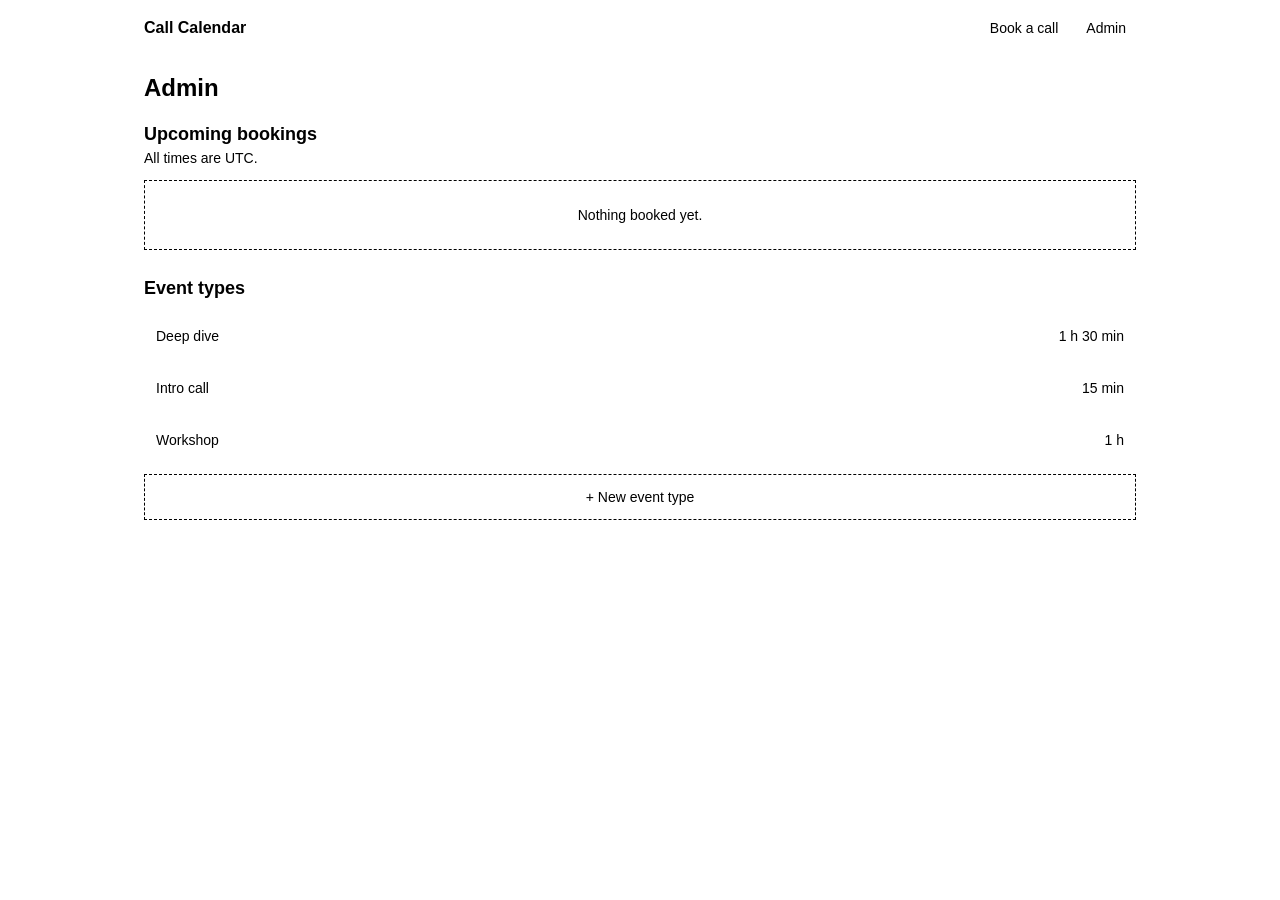
admin: editing an event type › expands a card into the prefilled form, saves, and shows the new values in name order
The width and height of the screenshot is (1280, 900).
Click the button "Intro call 15 min": (182,388) [144,366,1136,410]
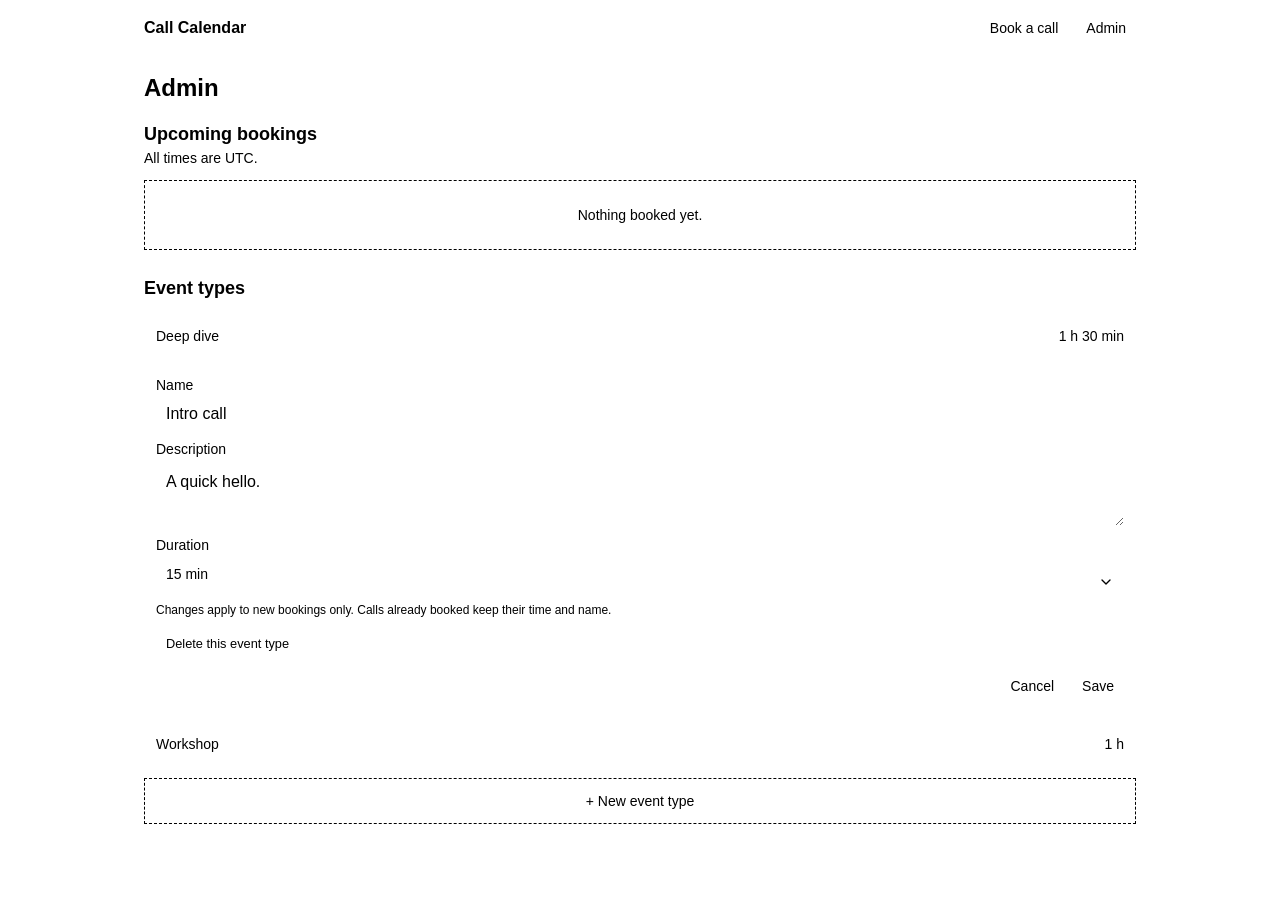
Expected: the field labelled "Name" holds "Intro call"
Expected: the text box labelled "Description" holds "A quick hello.", [156,462,1124,526]
Expected: the dropdown labelled "Duration" shows "15 min", [156,558,1124,590]
Replace the text in the field labelled "Name" with "Zoom chat": (640,414) [156,398,1124,430]
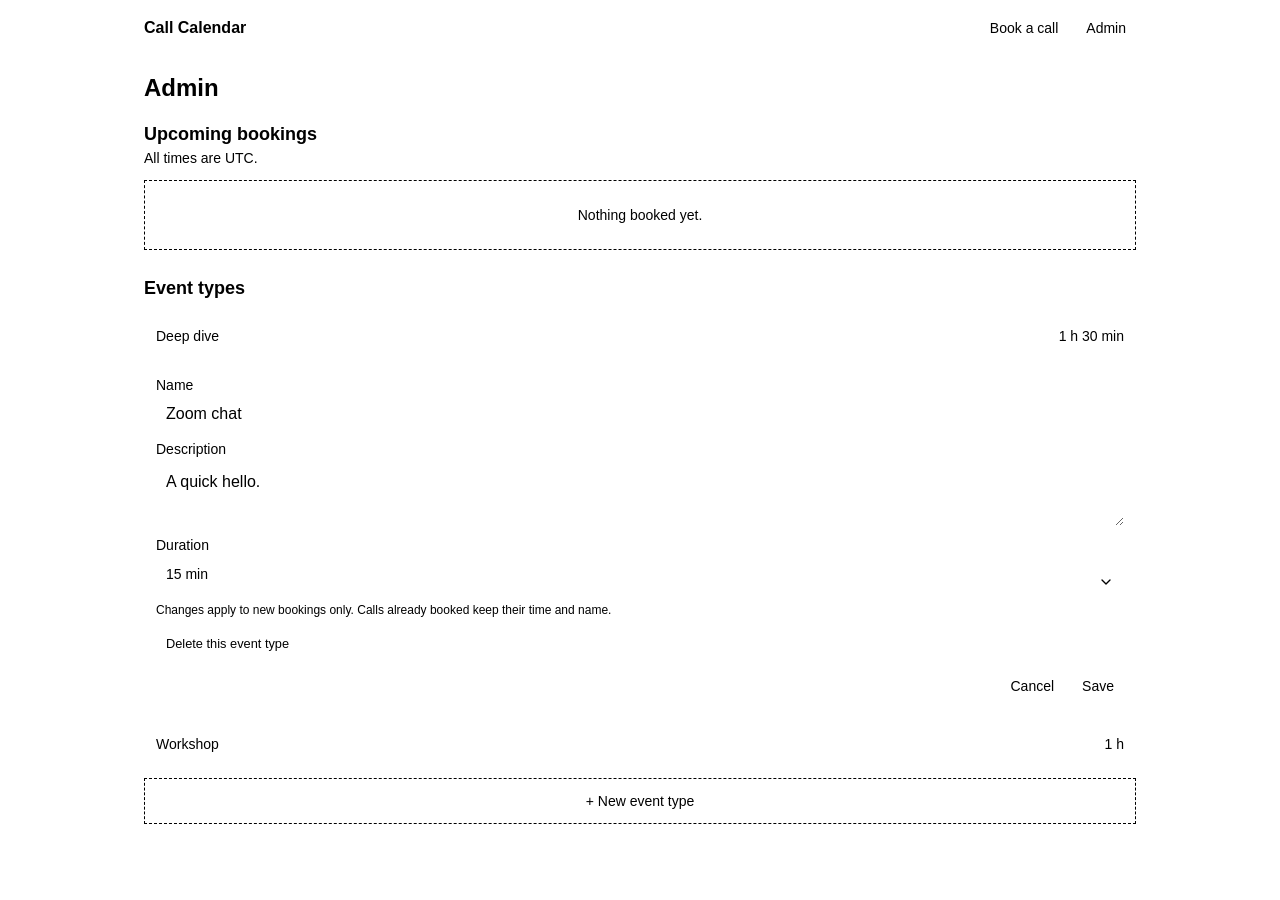
Select "45 min" in the dropdown labelled "Duration": (640,574) [156,558,1124,590]
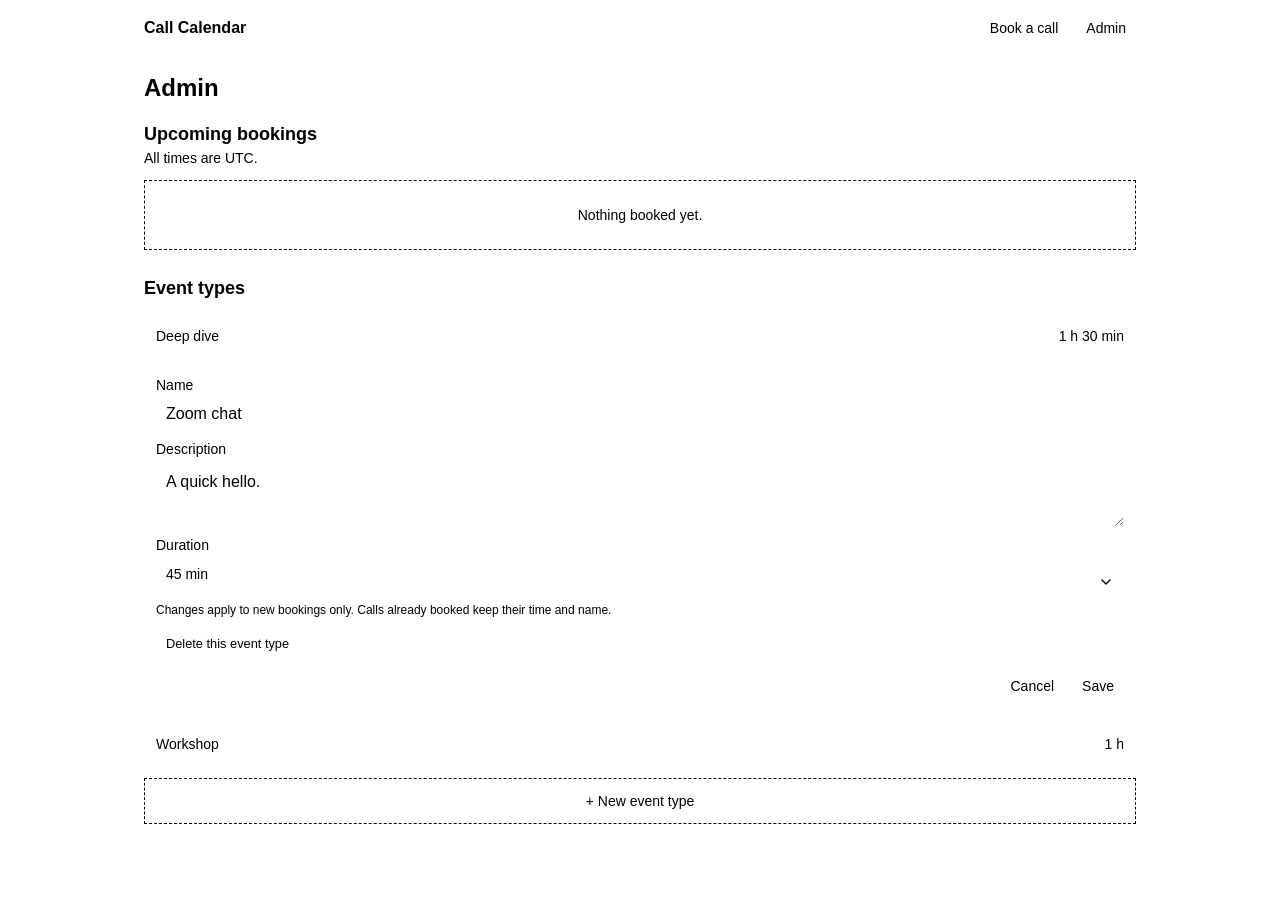
Click the button "Save": (1098,686) [1072,670,1124,702]
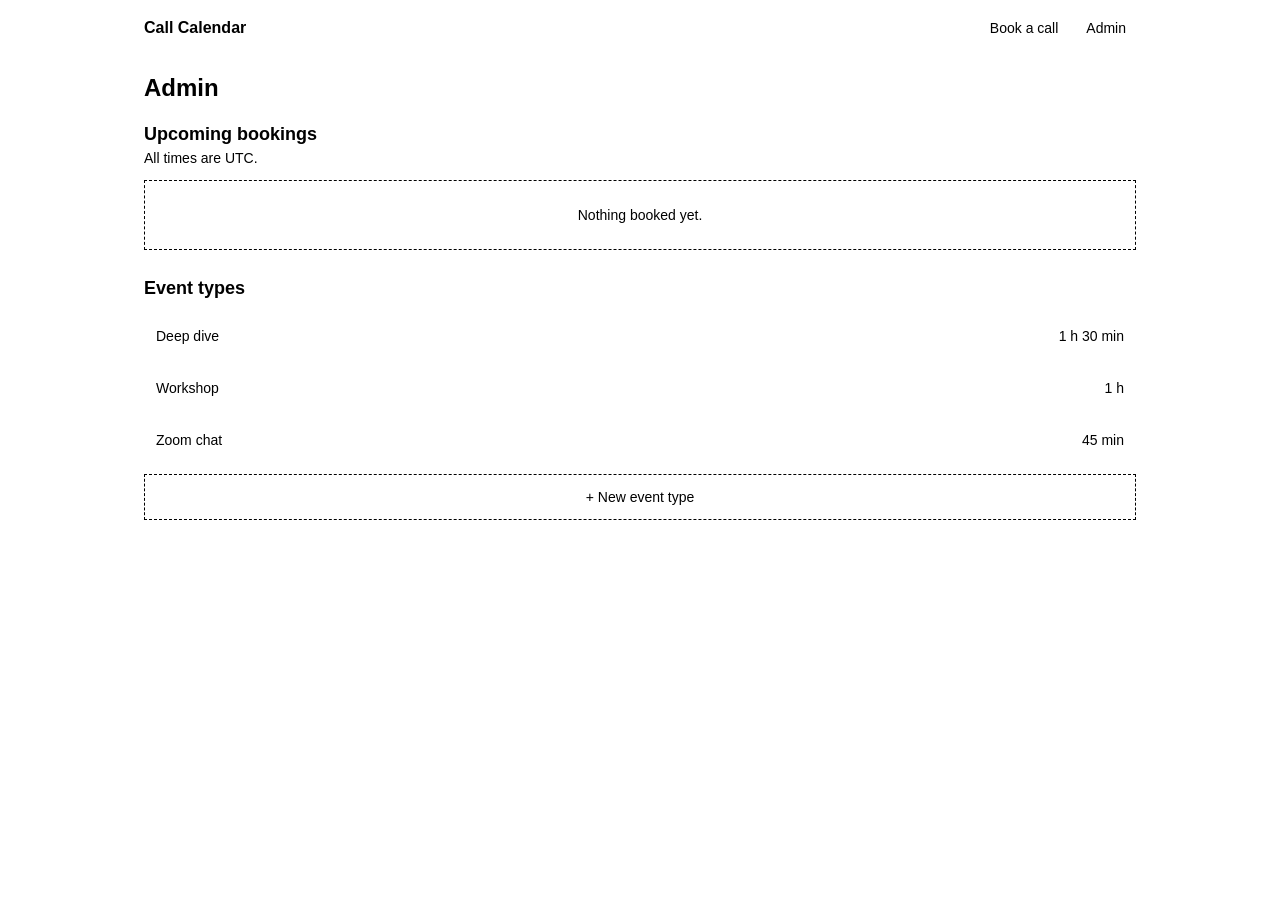
Expected: the text "Zoom chat" is shown, [156,430,222,450]
Expected: the form is gone
